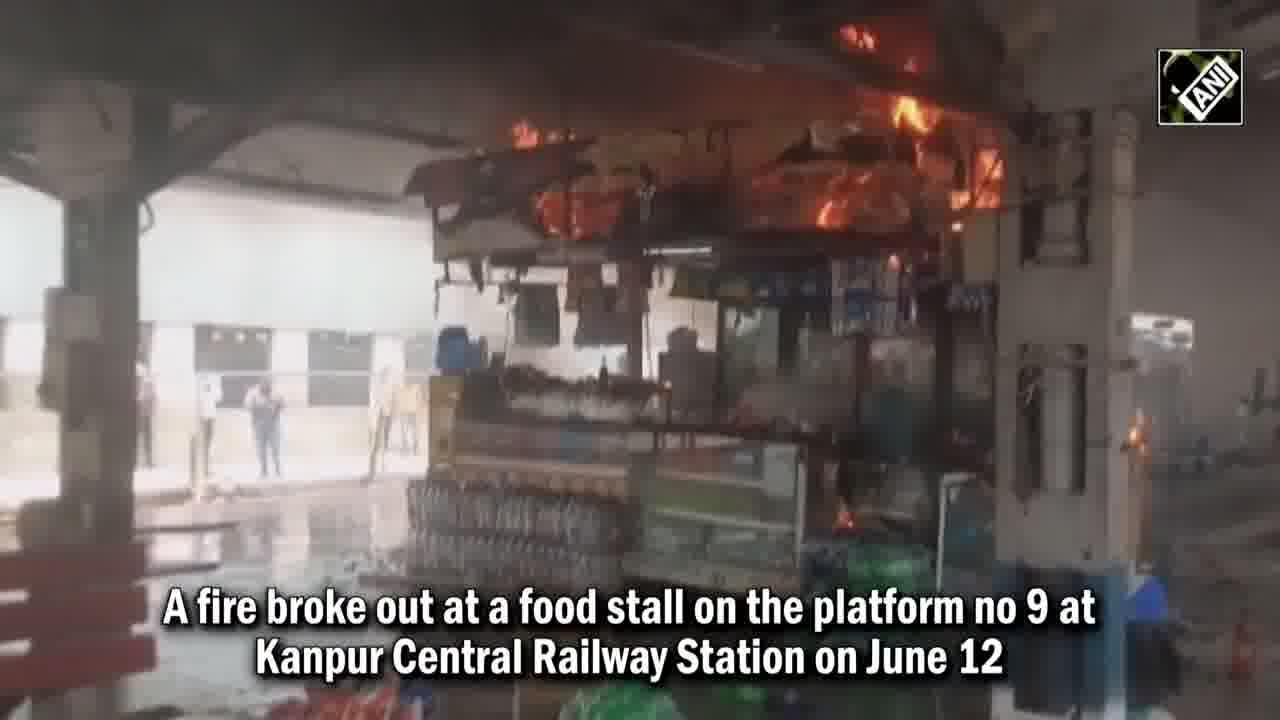fire: (842, 92, 978, 212), (478, 118, 608, 207)
